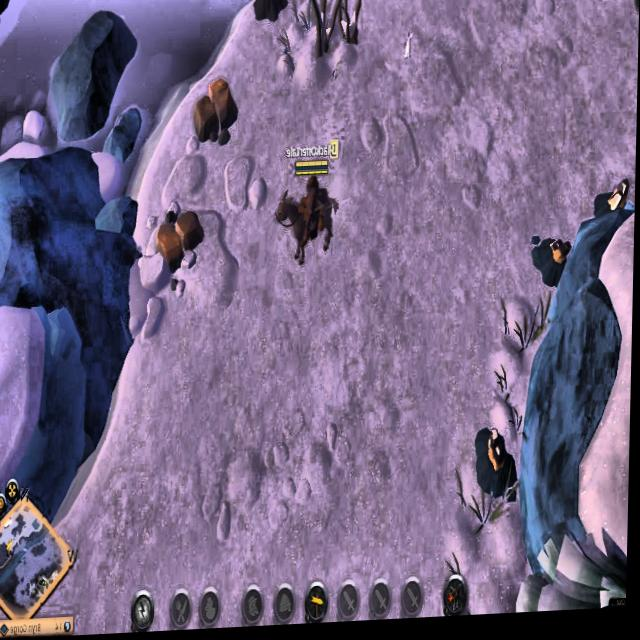copperore: (476, 427, 520, 500), (534, 238, 577, 293), (594, 180, 635, 230)
limestone: (155, 207, 209, 279), (193, 79, 240, 149)
